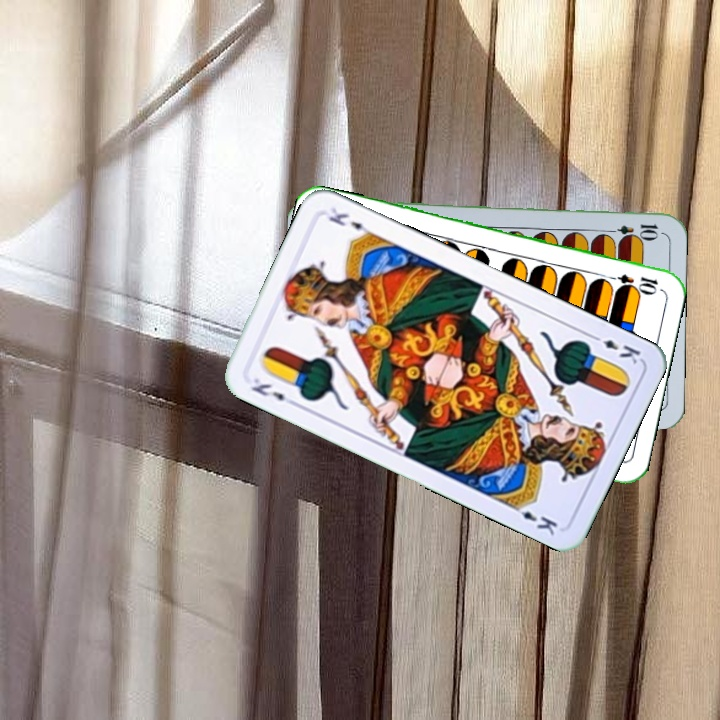E10: (601, 270, 661, 294), (602, 220, 661, 238)
EK: (586, 330, 644, 367), (247, 373, 300, 409)
